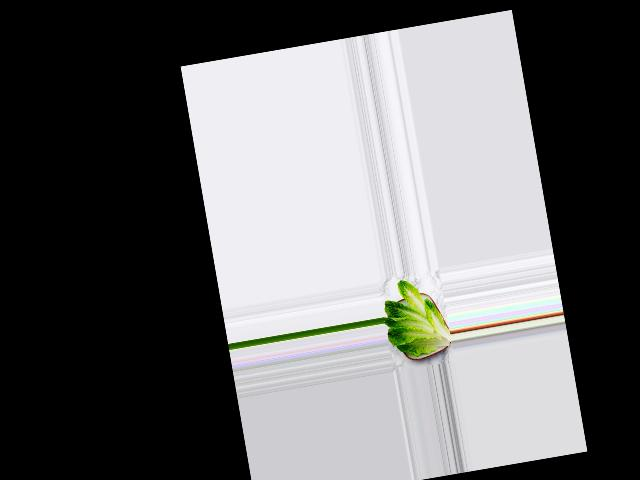lettuce: (376, 272, 451, 365)
